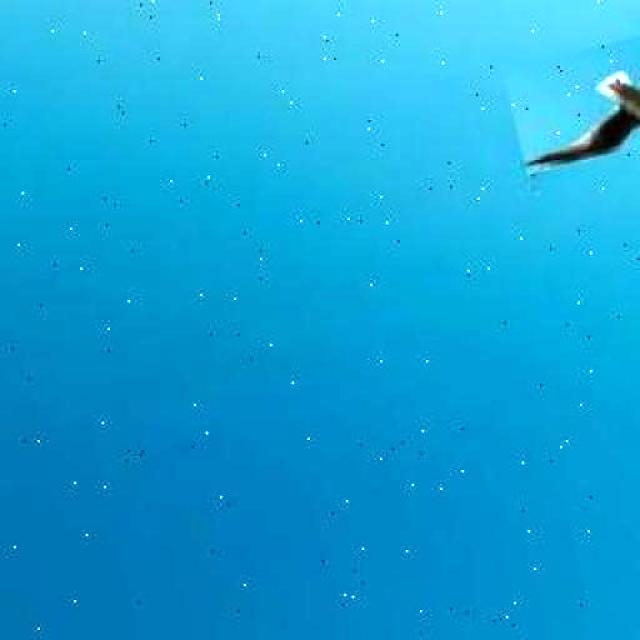airplane: (502, 12, 640, 174)
